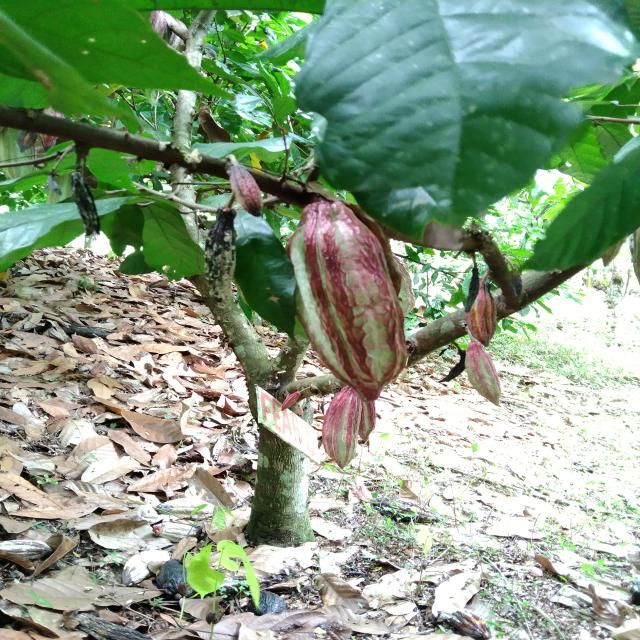Fitoftora: (467, 288, 505, 346), (227, 164, 263, 214)
Monilia: (287, 198, 408, 398), (203, 205, 238, 308), (67, 172, 103, 234)
Sana: (322, 386, 363, 469), (463, 337, 509, 402)
